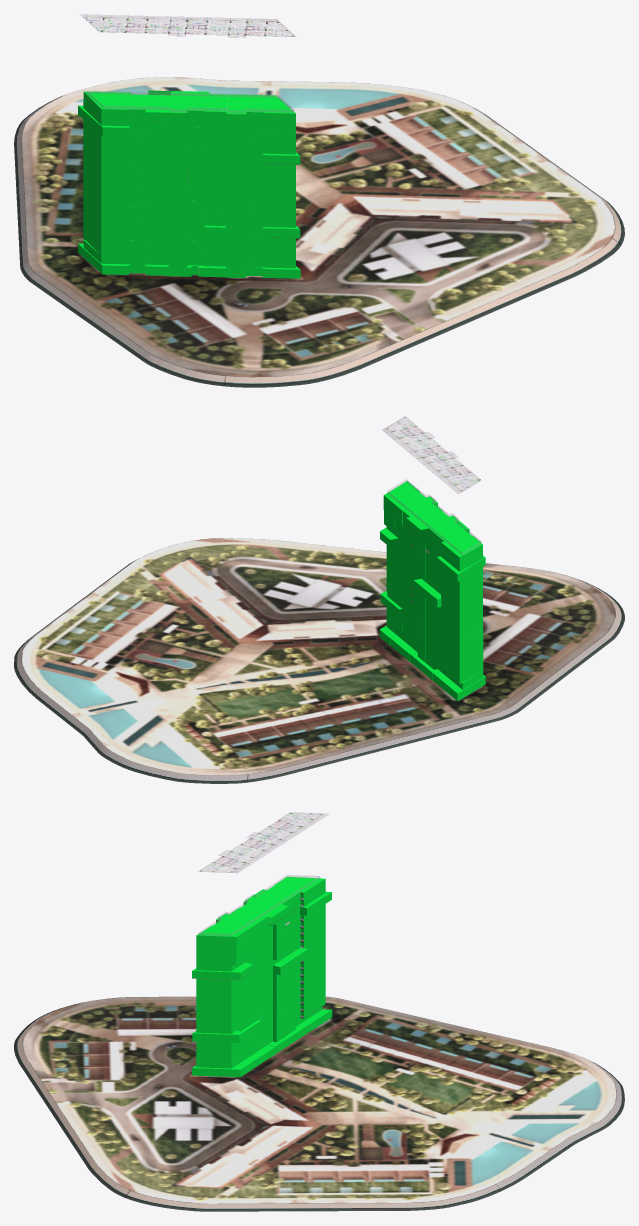
Rendered from TorreMareaBaked.dae.
3 renders of one model, top to bottom at view 1: azimuth 30°, elevation 25°; view 2: azimuth 150°, elevation 25°; view 3: azimuth 270°, elevation 25°, orthographic. The views are drawn at different scales.
Visible parts, largest first — view 1: isla, Planta10, MAR-03-N020-P-0PH5, MAR-03-N020-P-0PH3, cristales, MAR-03-N020-P-0PH2, MAR-03-N020-P-0PH1, MAR-03-N0PB-P-0GH1, MAR-03-N019-P-0PH5, MAR-03-N018-P-00A2, MAR-03-N0PB-P-0GH3, MAR-03-N006-P-00D2 (+13 smaller); view 2: isla, Planta10, MAR-03-N020-P-0PH3, MAR-03-N020-P-0PH5, MAR-03-N020-P-0PH1, MAR-03-N020-P-0PH2, MAR-03-N0PB-P-0GH1, cristales, MAR-03-N018-P-00A2; view 3: isla, Planta10, MAR-03-N020-P-0PH5, MAR-03-N020-P-0PH3, cristales, MAR-03-N020-P-0PH2, MAR-03-N020-P-0PH1, MAR-03-N0PB-P-0GH3, MAR-03-N015-P-00D2, MAR-03-N006-P-00D2.
Part boxes in pixels (x1,y1,x2,y2): isla: (14, 77, 624, 387); Planta10: (80, 14, 295, 37); MAR-03-N020-P-0PH5: (226, 94, 295, 123); MAR-03-N020-P-0PH3: (168, 91, 228, 121); cristales: (86, 91, 294, 113); MAR-03-N020-P-0PH2: (128, 90, 171, 121); MAR-03-N020-P-0PH1: (83, 91, 130, 118); MAR-03-N0PB-P-0GH1: (78, 243, 145, 274); MAR-03-N019-P-0PH5: (226, 120, 295, 131); MAR-03-N018-P-00A2: (78, 105, 129, 136); MAR-03-N0PB-P-0GH3: (246, 266, 300, 278); MAR-03-N006-P-00D2: (246, 226, 300, 238); isla: (14, 538, 624, 783); Planta10: (382, 416, 481, 494); MAR-03-N020-P-0PH3: (402, 503, 459, 537); MAR-03-N020-P-0PH5: (383, 481, 437, 517); MAR-03-N020-P-0PH1: (441, 535, 482, 564); MAR-03-N020-P-0PH2: (421, 521, 471, 545); MAR-03-N0PB-P-0GH1: (432, 671, 485, 701); cristales: (387, 479, 481, 554); MAR-03-N018-P-00A2: (436, 555, 485, 581); isla: (14, 996, 624, 1211); Planta10: (198, 812, 329, 873); MAR-03-N020-P-0PH5: (196, 913, 258, 944); MAR-03-N020-P-0PH3: (229, 896, 288, 929); cristales: (198, 875, 319, 935); MAR-03-N020-P-0PH2: (252, 885, 300, 913); MAR-03-N020-P-0PH1: (275, 876, 325, 899); MAR-03-N0PB-P-0GH3: (192, 1060, 253, 1077); MAR-03-N015-P-00D2: (192, 962, 252, 979); MAR-03-N006-P-00D2: (192, 1026, 251, 1042).
Size of what is drawn, in the model's own units: 2.25 by 1.02 by 2.72.
8 materials, 5 textured.
